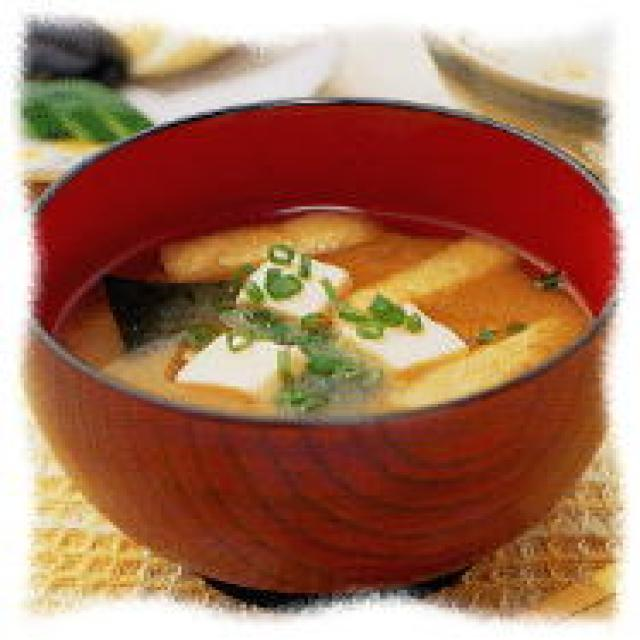汤锅炖物: (41, 80, 596, 572)
